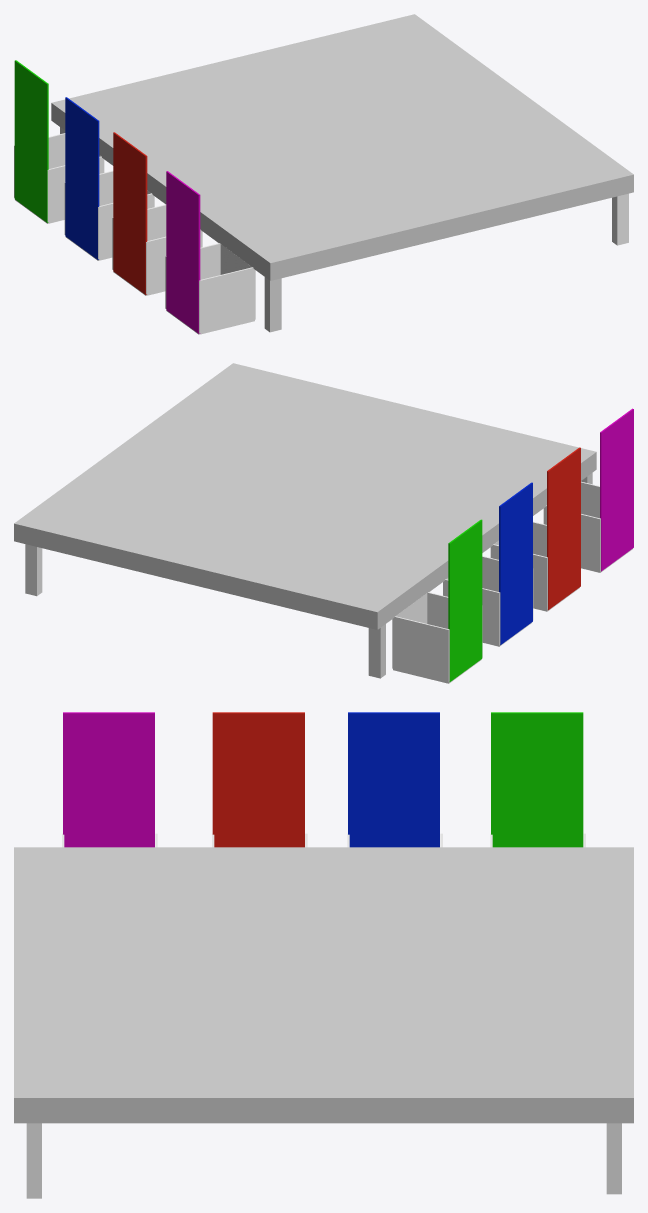
The picture shows the model from 3 angles, top to bottom: view 1: azimuth 30°, elevation 25°; view 2: azimuth 150°, elevation 25°; view 3: azimuth 270°, elevation 25°; orthographic projection. The views are drawn at different scales.
Parts seen in each view (by area): view 1: Cube.004, Cube.006, Cube.023, Cube.016, Cube.013, Cube.021, Cube.018, Cube.008, Cube, Cube.011, Cube.001, Cube.022 (+4 smaller); view 2: Cube.004, Cube.006, Cube.016, Cube.013, Cube.023, Cube.007, Cube.022, Cube.012, Cube.017, Cube.003, Cube.002, Cube.008 (+4 smaller); view 3: Cube.004, Cube.006, Cube.016, Cube.023, Cube.013, Cube.001, Cube.002.
Boxes of the visible parts, x1=… form: Cube.004: x1=51, y1=14, x2=633, y2=280; Cube.006: x1=14, y1=60, x2=48, y2=222; Cube.023: x1=166, y1=171, x2=200, y2=333; Cube.016: x1=113, y1=132, x2=147, y2=294; Cube.013: x1=65, y1=97, x2=99, y2=259; Cube.021: x1=199, y1=267, x2=255, y2=333; Cube.018: x1=146, y1=229, x2=202, y2=294; Cube.008: x1=47, y1=156, x2=104, y2=222; Cube: x1=264, y1=277, x2=281, y2=332; Cube.011: x1=98, y1=193, x2=154, y2=259; Cube.001: x1=612, y1=193, x2=628, y2=245; Cube.022: x1=165, y1=243, x2=220, y2=308; Cube.004: x1=14, y1=363, x2=596, y2=629; Cube.006: x1=448, y1=519, x2=482, y2=682; Cube.016: x1=547, y1=447, x2=580, y2=610; Cube.013: x1=499, y1=482, x2=532, y2=645; Cube.023: x1=600, y1=408, x2=633, y2=571; Cube.007: x1=392, y1=616, x2=449, y2=682; Cube.022: x1=543, y1=505, x2=600, y2=571; Cube.012: x1=443, y1=579, x2=500, y2=644; Cube.017: x1=490, y1=544, x2=547, y2=609; Cube.003: x1=368, y1=624, x2=385, y2=678; Cube.002: x1=25, y1=544, x2=42, y2=596; Cube.008: x1=427, y1=592, x2=482, y2=657; Cube.004: x1=14, y1=847, x2=633, y2=1123; Cube.006: x1=491, y1=712, x2=583, y2=847; Cube.016: x1=212, y1=712, x2=304, y2=847; Cube.023: x1=63, y1=712, x2=154, y2=847; Cube.013: x1=348, y1=712, x2=439, y2=847; Cube.001: x1=26, y1=1123, x2=41, y2=1198; Cube.002: x1=606, y1=1123, x2=621, y2=1194.
Size of the model in its own units: 20.47 by 18.59 by 6.56.
